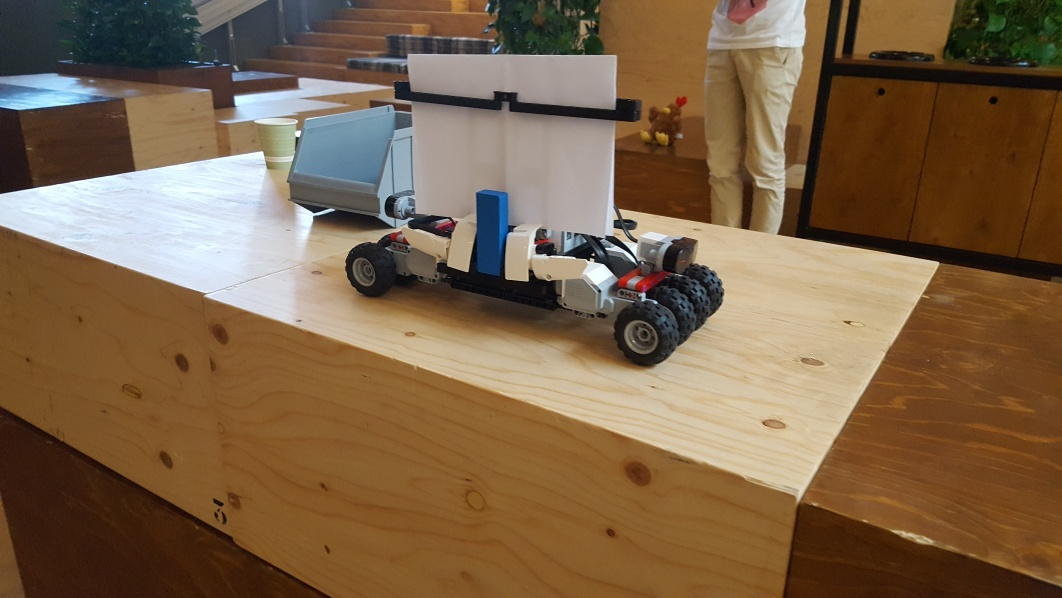beam: (473, 187, 507, 277)
chicken: (637, 97, 691, 150)
cup: (254, 116, 297, 171)
tray: (290, 105, 418, 230)
